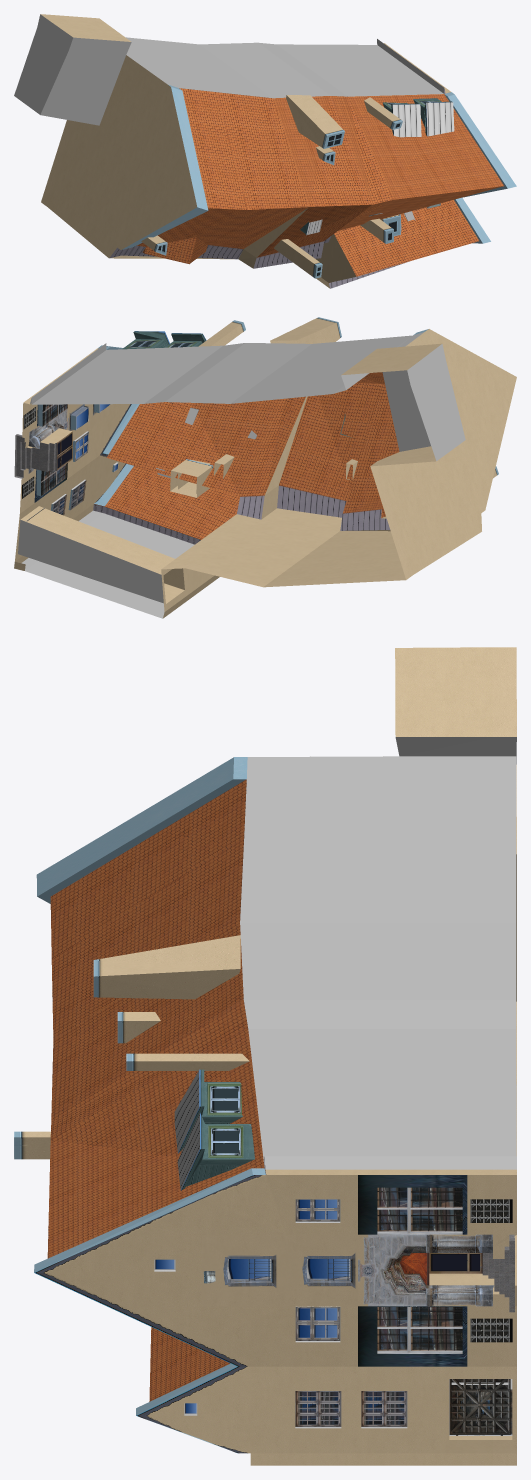
Rendered from Suur-Karja_8-origo.obj.
3 views of the same model, one above another, from view 1: azimuth 30°, elevation 25°; view 2: azimuth 150°, elevation 25°; view 3: azimuth 270°, elevation 25° (orthographic). The views are drawn at different scales.
Visible parts, largest first — view 1: Suur_Karja_8, xxx; view 2: Suur_Karja_8, xxx; view 3: Suur_Karja_8, xxx.
Boxes of the visible parts, left/top/right/bottom form: Suur_Karja_8: left=40, top=14, right=516, bottom=288; xxx: left=14, top=14, right=444, bottom=114; Suur_Karja_8: left=14, top=317, right=516, bottom=618; xxx: left=21, top=332, right=465, bottom=618; Suur_Karja_8: left=14, top=647, right=516, bottom=1465; xxx: left=240, top=737, right=516, bottom=1169.
Size of the model in its own units: 32.12 by 22 by 19.33.
